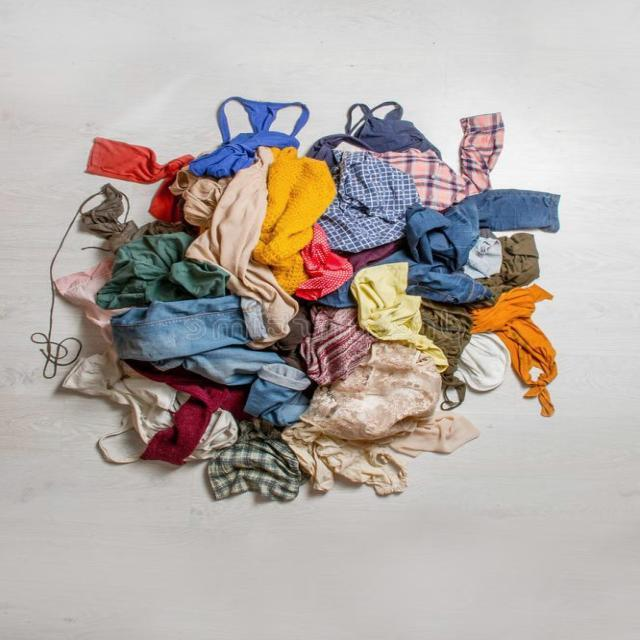clothes: (0, 102, 611, 548)
